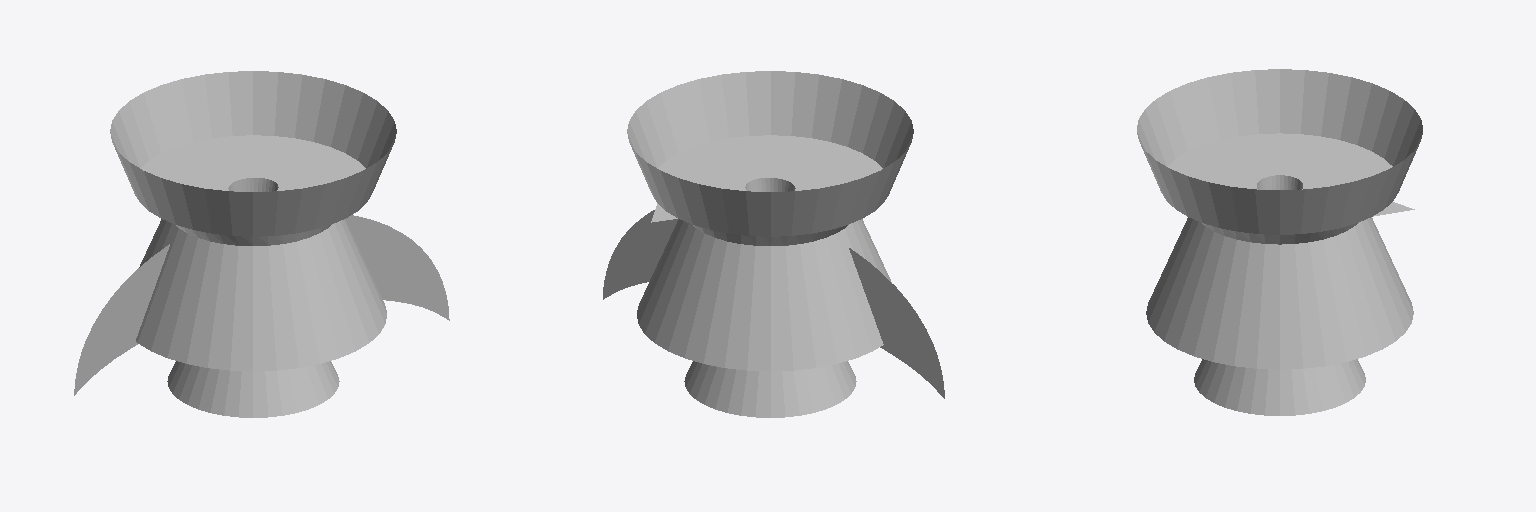
File: fins03.obj
The picture shows the model from 3 angles: view 1: azimuth 30°, elevation 25°; view 2: azimuth 150°, elevation 25°; view 3: azimuth 270°, elevation 25°; orthographic projection.
Parts seen in each view (by area): view 1: CUPIC_ROCKETSHIP.025, CUPIC_ROCKETSHIP.036, CUPIC_ROCKETSHIP.048; view 2: CUPIC_ROCKETSHIP.025, CUPIC_ROCKETSHIP.048, CUPIC_ROCKETSHIP.036; view 3: CUPIC_ROCKETSHIP.025.
Part boxes in pixels (x1,y1,x2,y2): CUPIC_ROCKETSHIP.025: (110,71,396,417); CUPIC_ROCKETSHIP.036: (346,215,449,320); CUPIC_ROCKETSHIP.048: (74,244,169,395); CUPIC_ROCKETSHIP.025: (627,71,913,417); CUPIC_ROCKETSHIP.048: (849,248,944,398); CUPIC_ROCKETSHIP.036: (603,210,677,299); CUPIC_ROCKETSHIP.025: (1137,69,1422,415).
Bounding box in the file's own units: 18.99 × 12.64 × 13.15.